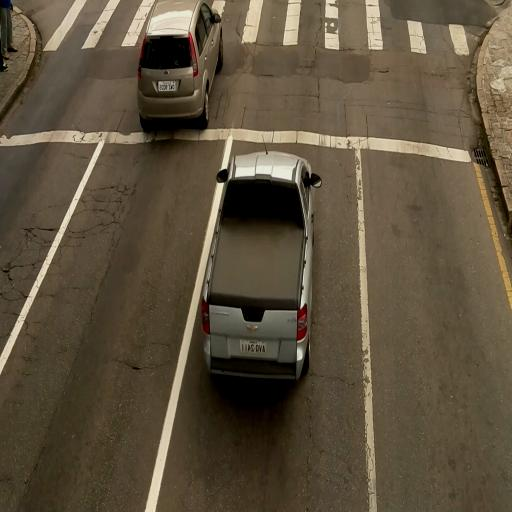car: (202, 148, 320, 382), (141, 2, 224, 130)
